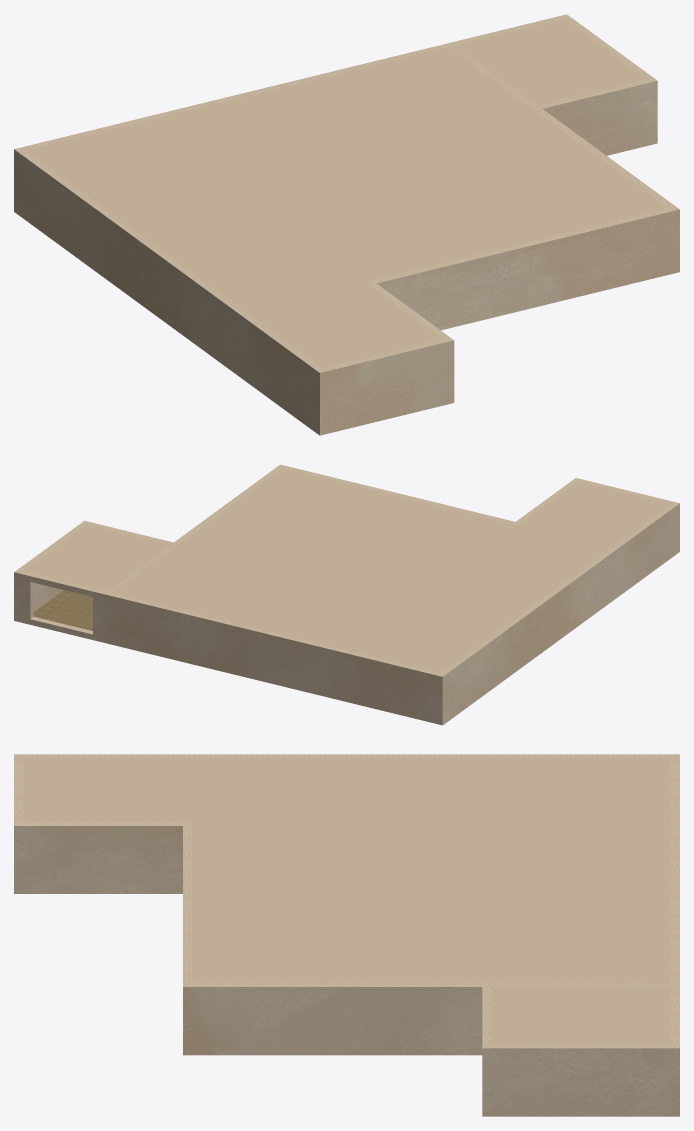
The model's file is OficinaEstructura.fbx.
3 views of the same model, one above another, from view 1: azimuth 30°, elevation 25°; view 2: azimuth 150°, elevation 25°; view 3: azimuth 270°, elevation 25° (orthographic). The views are drawn at different scales.
Parts seen in each view (by area): view 1: EstructuraOficina; view 2: EstructuraOficina; view 3: EstructuraOficina.
Boxes of the visible parts, bbox=[...] form: EstructuraOficina: bbox=[14, 14, 679, 435]; EstructuraOficina: bbox=[14, 464, 679, 725]; EstructuraOficina: bbox=[14, 754, 679, 1116].
Bounding box in the file's own units: 2770 × 300 × 2654.
